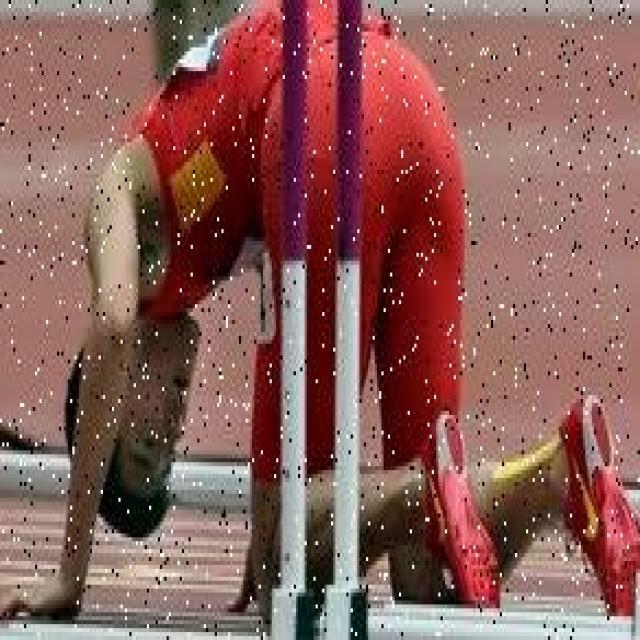fall: (55, 9, 611, 588)
